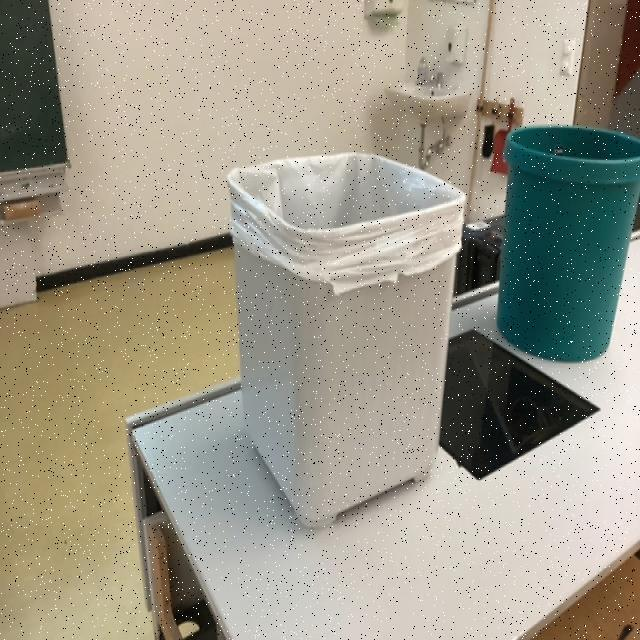garbage container: (196, 139, 480, 541), (496, 98, 640, 383)
